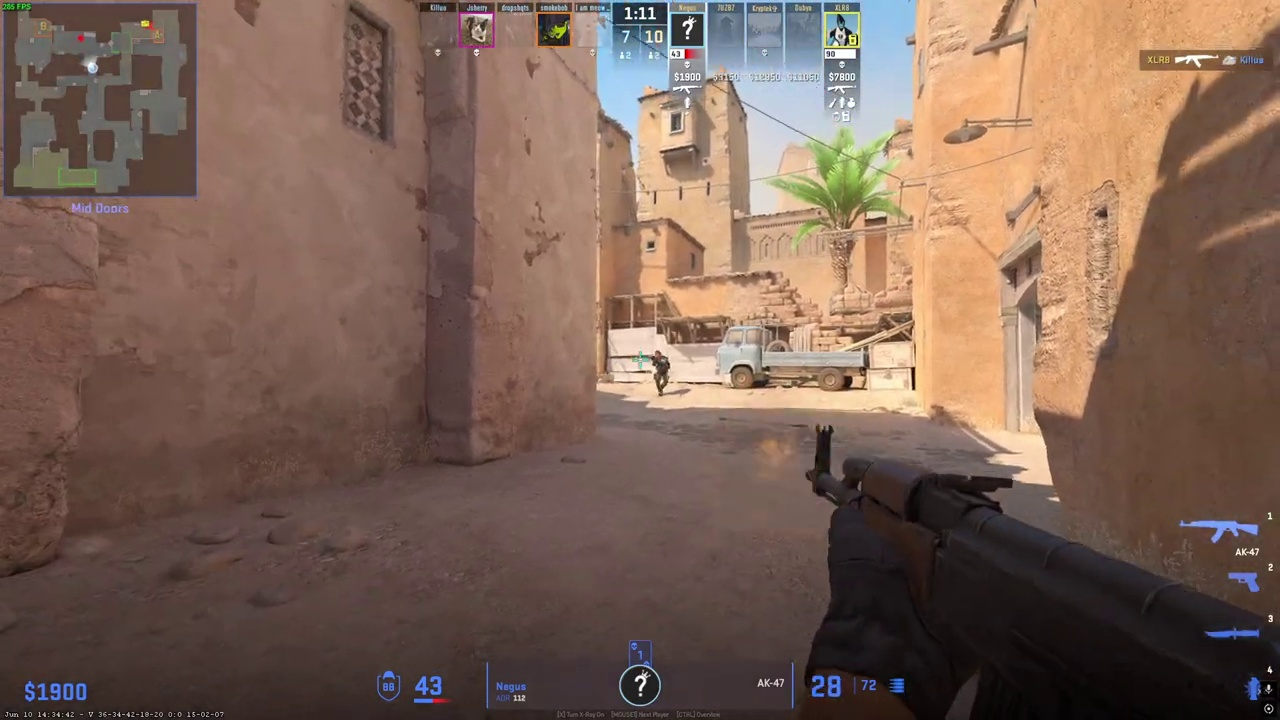CT: (651, 350, 670, 396)
